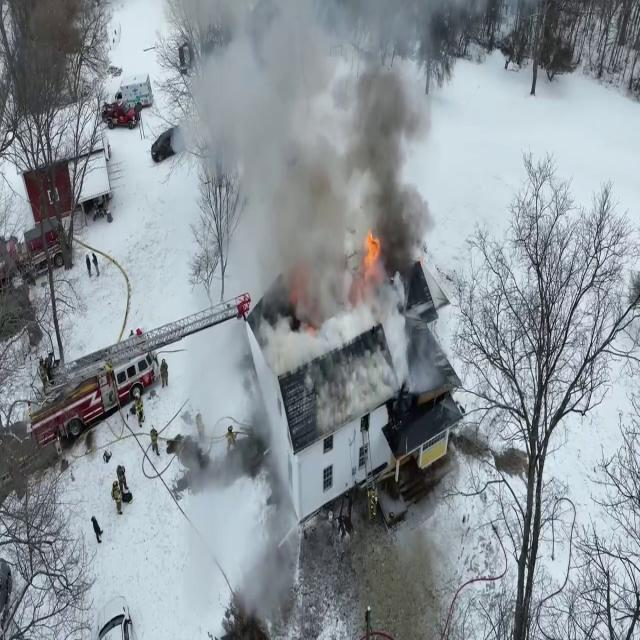Fire: (360, 227, 384, 281)
Smoke: (173, 0, 460, 341)
